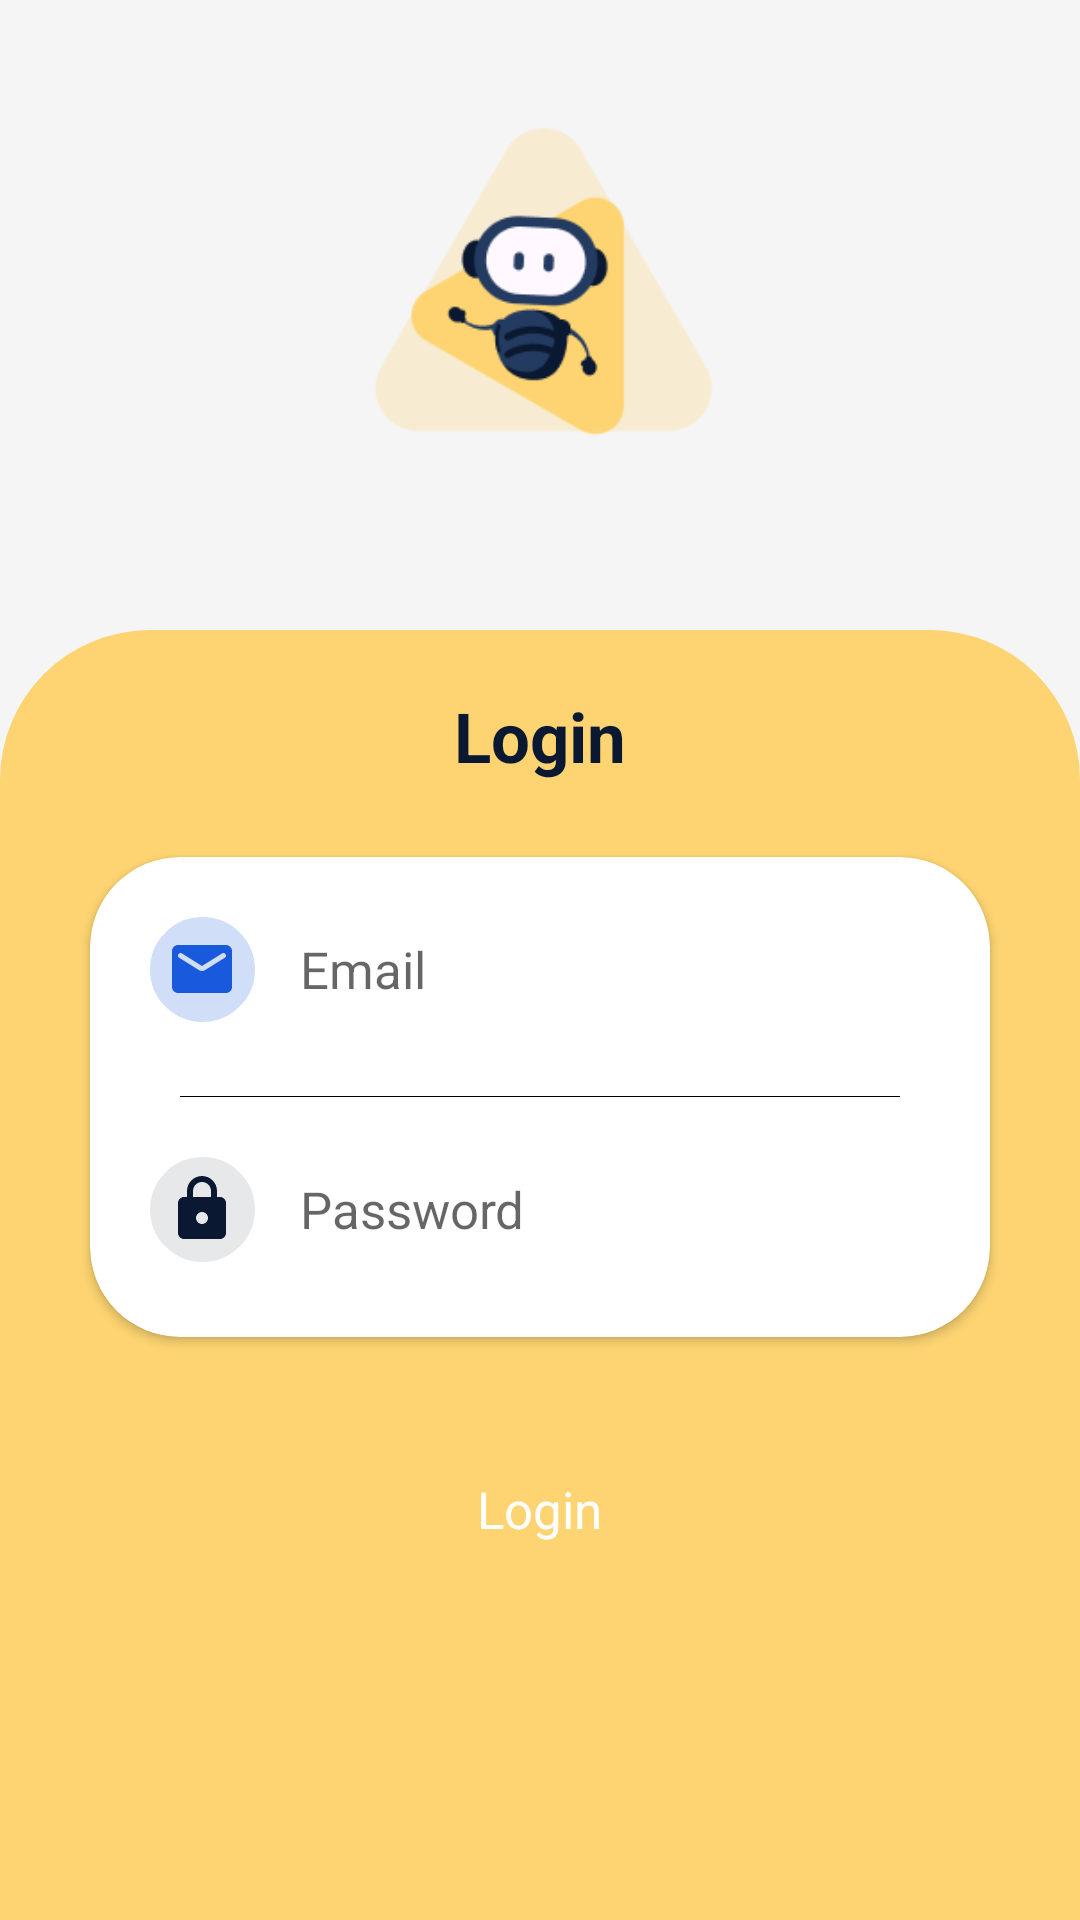

Icon bounding boxes for this 1080px x 1920px phone screenshot, format [left=x1, top=y1, right=x2, bottom=y2]:
lock: [left=178, top=1176, right=226, bottom=1239]
